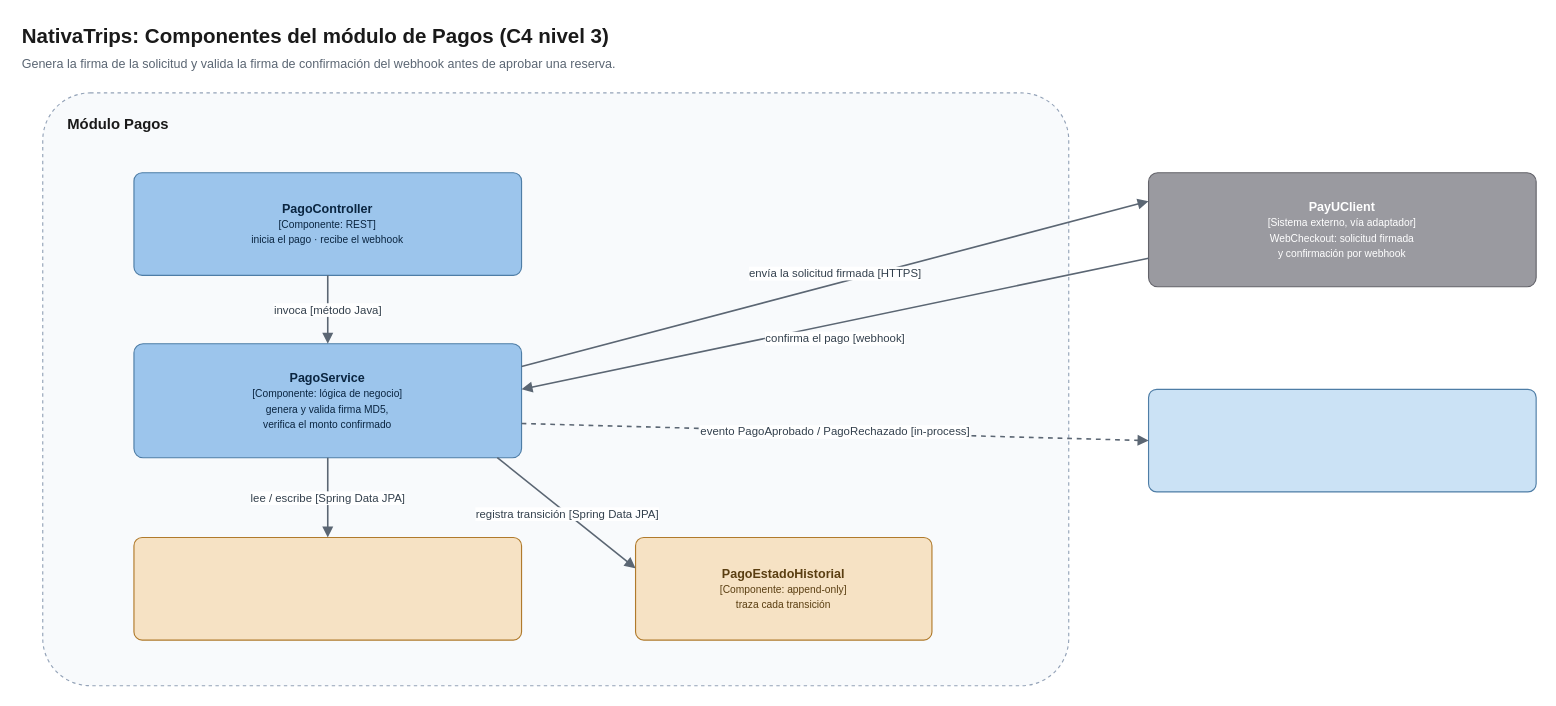
The diagram is 1556 pixels wide and 706 high, and some of its shapes have lost their labels. Here are the shapes that lost their labels. From the top down, the centre of each, then its label:
At (1341,440): "ReservaService [Módulo Reservas] confirma o cancela la reserva".
At (327,588): "PagoRepository [Componente: Spring Data JPA] persistencia y consultas".
